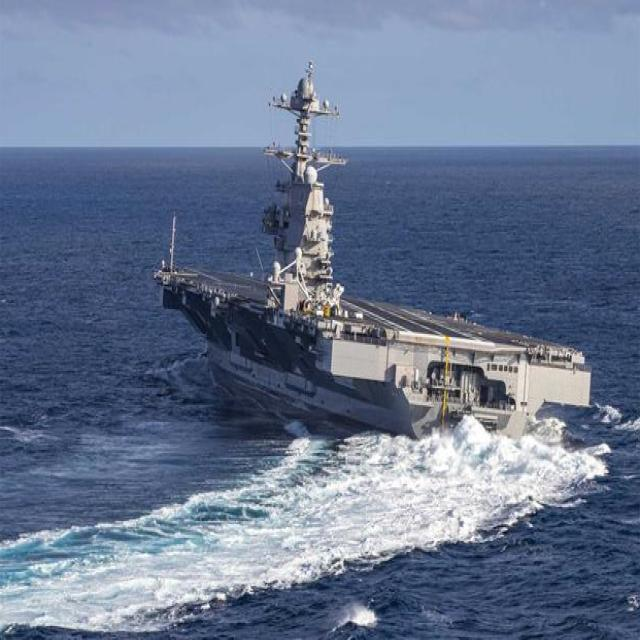navalvessels: (152, 48, 591, 467)
